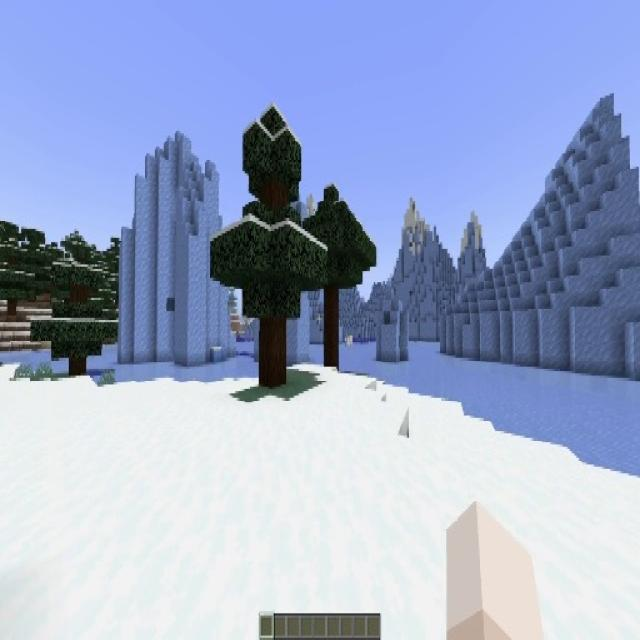spruce: (210, 106, 322, 393), (298, 185, 378, 373), (36, 241, 114, 377), (0, 233, 33, 315)
spruce_log: (258, 317, 286, 387), (324, 290, 338, 370), (69, 356, 88, 378), (7, 298, 17, 316)
